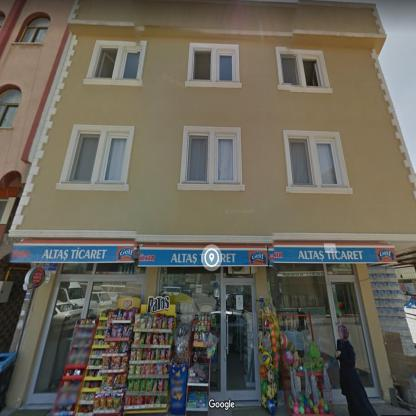door: (26, 275, 92, 404), (328, 275, 379, 398), (222, 278, 260, 400)
window: (266, 263, 354, 403), (62, 264, 145, 316), (158, 267, 252, 311), (63, 130, 129, 183), (184, 131, 237, 184), (288, 136, 341, 186), (90, 44, 142, 78), (188, 47, 237, 82), (280, 53, 324, 86), (1, 90, 21, 127), (19, 18, 49, 42)
